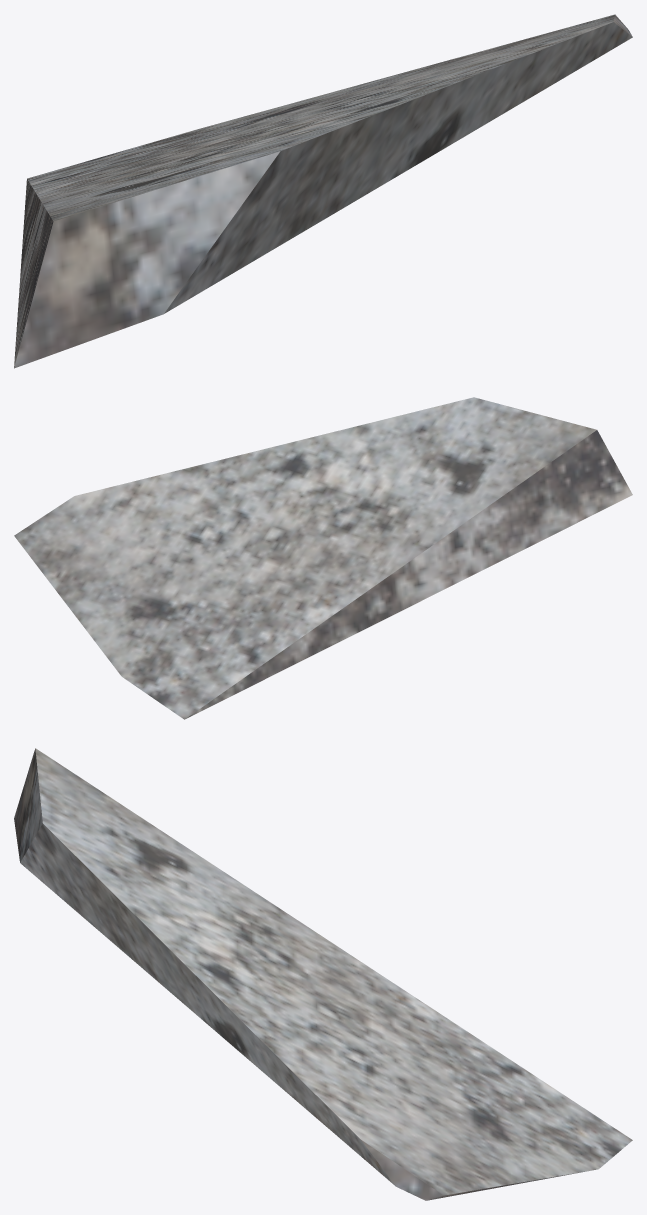
Rendered from Asteroid_Large_001_02_007_03_007.fbx.
3 renders of one model, top to bottom at view 1: azimuth 30°, elevation 25°; view 2: azimuth 150°, elevation 25°; view 3: azimuth 270°, elevation 25°, orthographic. The views are drawn at different scales.
Parts seen in each view (by area): view 1: Asteroid_Large_001_02_007_03_007; view 2: Asteroid_Large_001_02_007_03_007; view 3: Asteroid_Large_001_02_007_03_007.
Part boxes in pixels (x1,y1,x2,y2): Asteroid_Large_001_02_007_03_007: (14, 14, 632, 368); Asteroid_Large_001_02_007_03_007: (14, 397, 632, 719); Asteroid_Large_001_02_007_03_007: (14, 748, 632, 1200).
Bounding box in the file's own units: 7.08 × 2.72 × 5.81.
